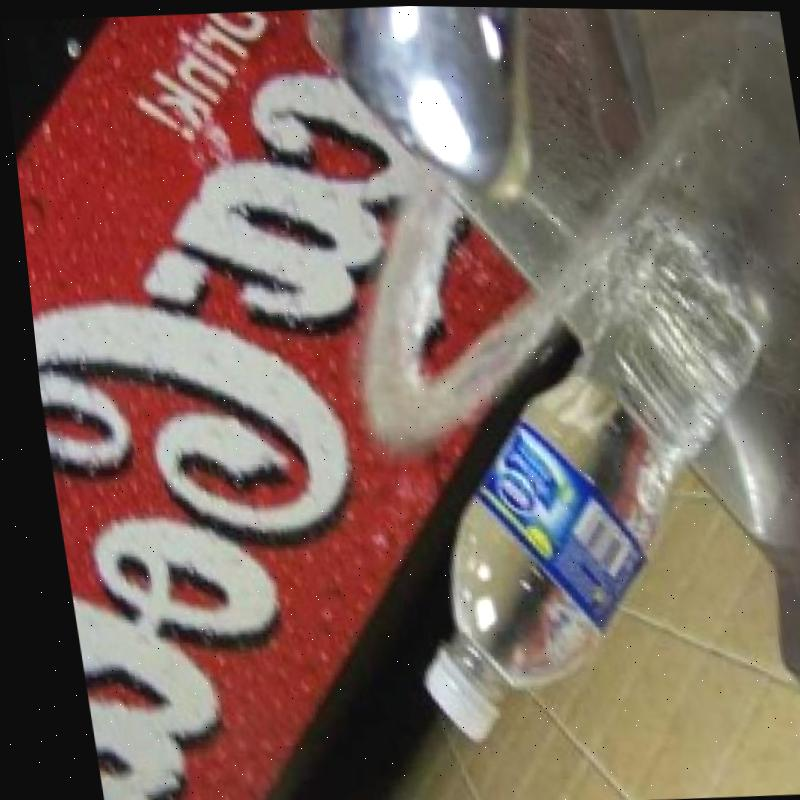botella: (346, 239, 800, 749)
